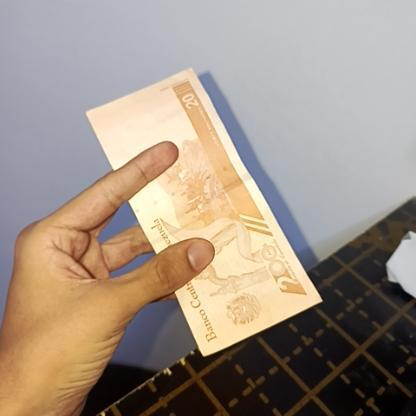twenty-back-vef: (80, 67, 340, 356)
